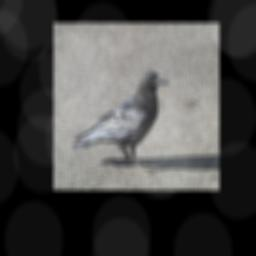Crow: (71, 69, 170, 174)
